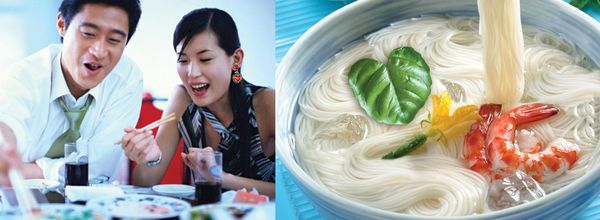pizza: (186, 147, 223, 205)
sushi: (275, 0, 600, 217)
